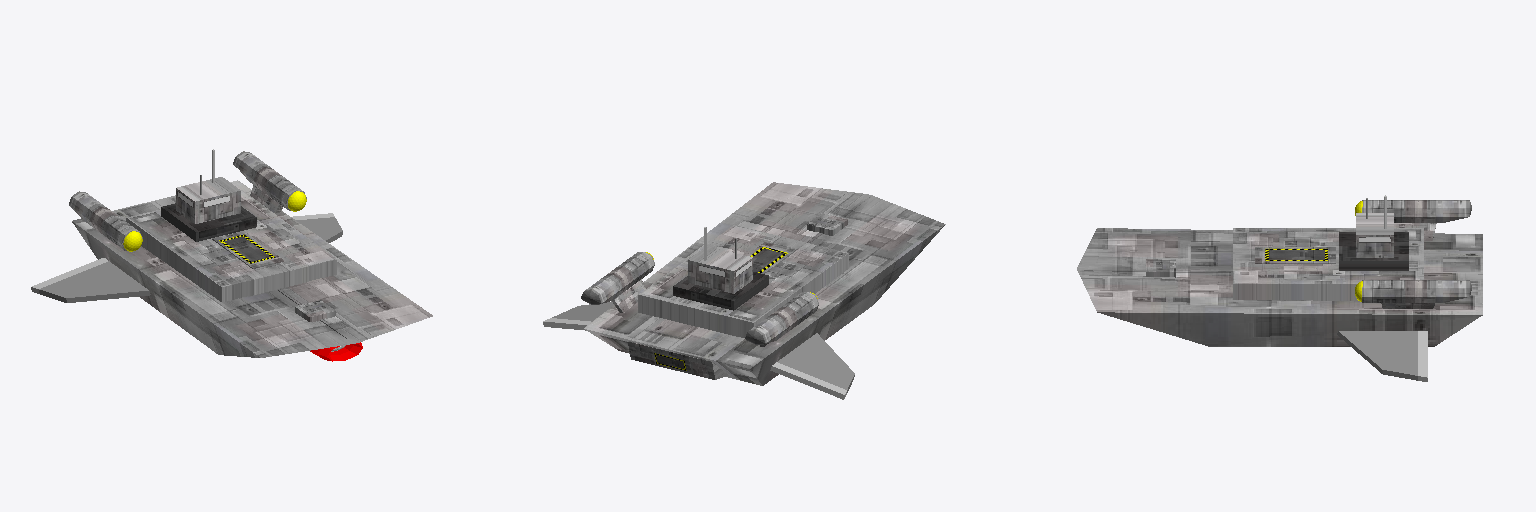
3 views of the same model, side by side, from view 1: azimuth 30°, elevation 25°; view 2: azimuth 150°, elevation 25°; view 3: azimuth 270°, elevation 25° (orthographic).
Parts seen in each view (by area): view 1: hull, box1, wings, nacelles_main, bridge, bottom_of_bridge, box2, small_front_box, nacelles_front, cone; view 2: hull, box1, wings, nacelles_main, bridge, bottom_of_bridge, backbox, box2, small_front_box, nacelle_supports; view 3: hull, box1, nacelles_main, wings, bottom_of_bridge, bridge, box2, nacelle_supports, small_front_box.
Boxes of the visible parts, x1=… form: hull: x1=72, y1=180, x2=432, y2=357; box1: x1=126, y1=190, x2=336, y2=302; wings: x1=31, y1=213, x2=342, y2=302; nacelles_main: x1=69, y1=151, x2=306, y2=250; bridge: x1=176, y1=177, x2=240, y2=223; bottom_of_bridge: x1=161, y1=203, x2=256, y2=241; box2: x1=212, y1=231, x2=283, y2=268; small_front_box: x1=295, y1=300, x2=335, y2=321; nacelles_front: x1=123, y1=191, x2=306, y2=251; cone: x1=310, y1=342, x2=362, y2=361; hull: x1=584, y1=182, x2=945, y2=385; box1: x1=638, y1=225, x2=848, y2=337; wings: x1=543, y1=301, x2=854, y2=399; nacelles_main: x1=581, y1=252, x2=818, y2=344; bridge: x1=688, y1=246, x2=752, y2=293; bottom_of_bridge: x1=673, y1=272, x2=768, y2=310; backbox: x1=628, y1=342, x2=727, y2=379; box2: x1=746, y1=242, x2=795, y2=273; small_front_box: x1=807, y1=213, x2=847, y2=235; nacelle_supports: x1=612, y1=279, x2=768, y2=346; hull: x1=1077, y1=228, x2=1482, y2=346; box1: x1=1233, y1=228, x2=1423, y2=300; nacelles_main: x1=1362, y1=200, x2=1471, y2=302; wings: x1=1337, y1=331, x2=1427, y2=381; bottom_of_bridge: x1=1339, y1=232, x2=1408, y2=270; bridge: x1=1356, y1=213, x2=1393, y2=257; box2: x1=1255, y1=247, x2=1335, y2=263; nacelle_supports: x1=1381, y1=223, x2=1436, y2=308; small_front_box: x1=1146, y1=259, x2=1175, y2=277.
Bounding box in the file's own units: 73.74 × 30.31 × 85.79.
1 materials, 1 textured.